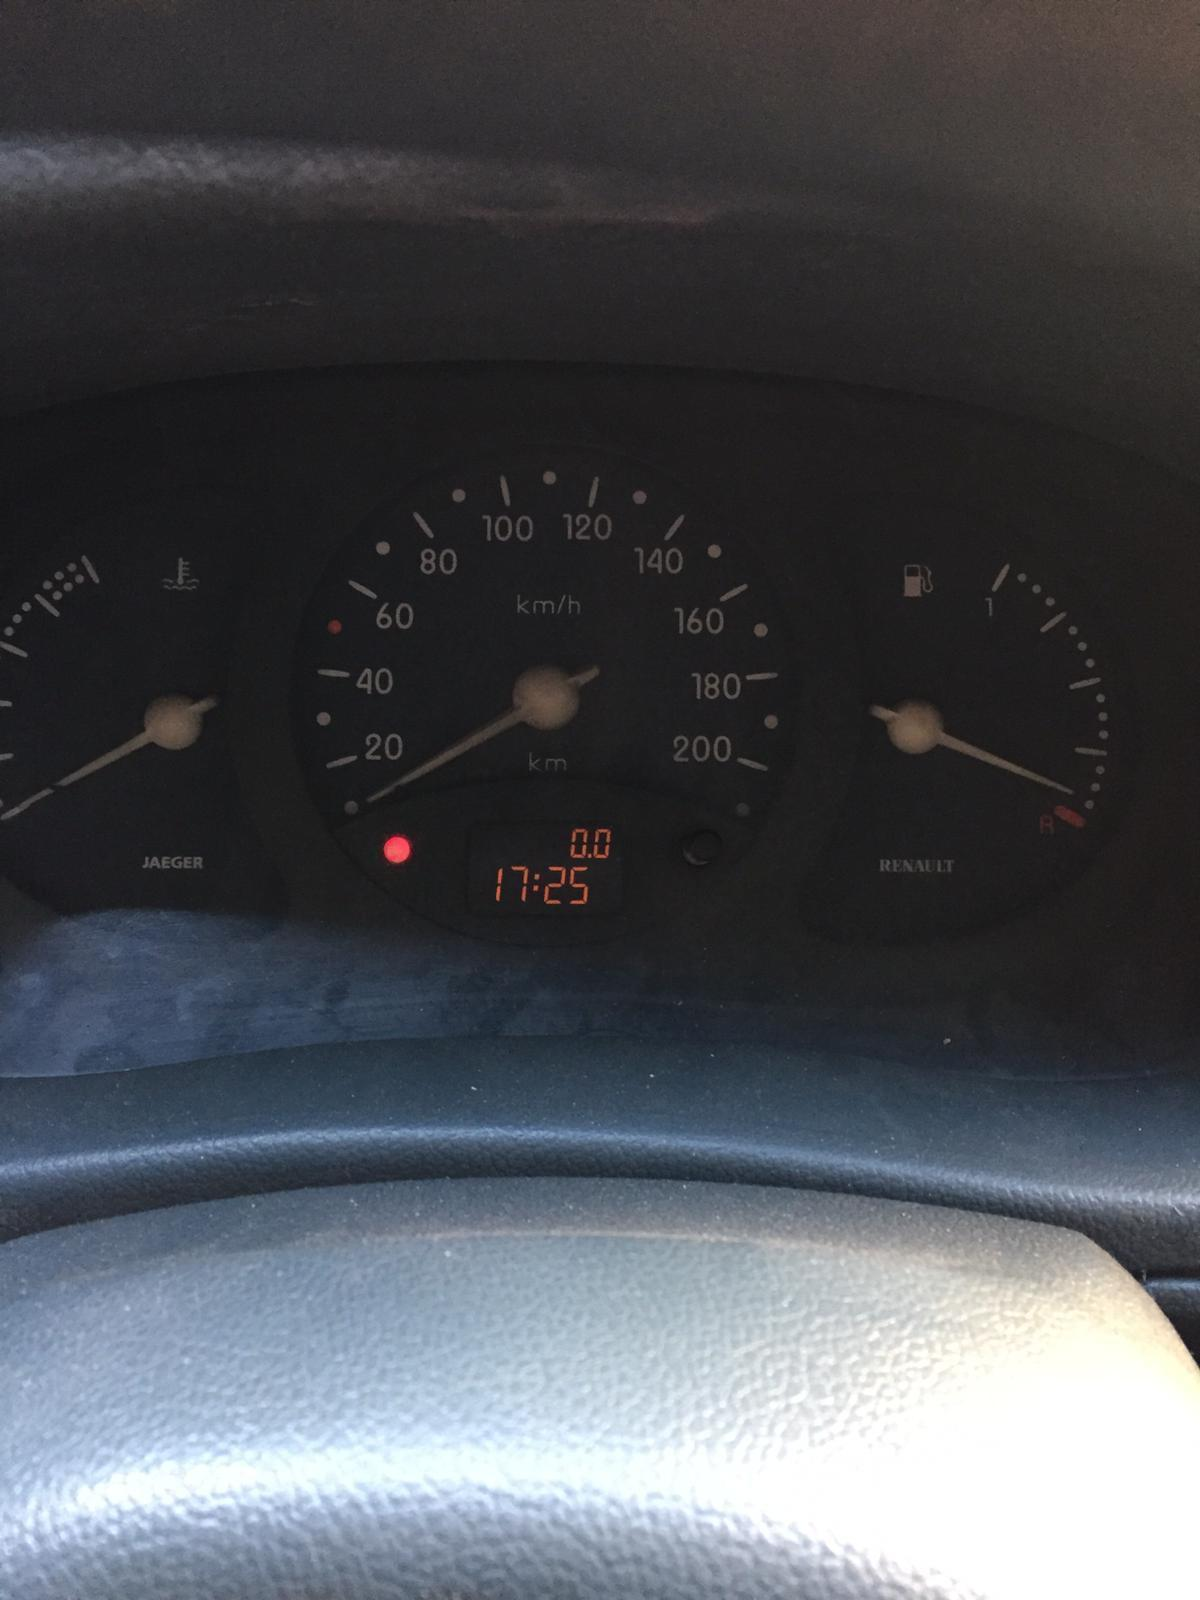,: (587, 852, 592, 859)
0: (568, 828, 587, 859), (592, 826, 611, 858)
1: (494, 866, 503, 903)
2: (542, 866, 566, 905)
5: (568, 866, 587, 905)
7: (511, 866, 529, 903)
X: (531, 872, 539, 892)
odometer: (460, 816, 632, 922)
